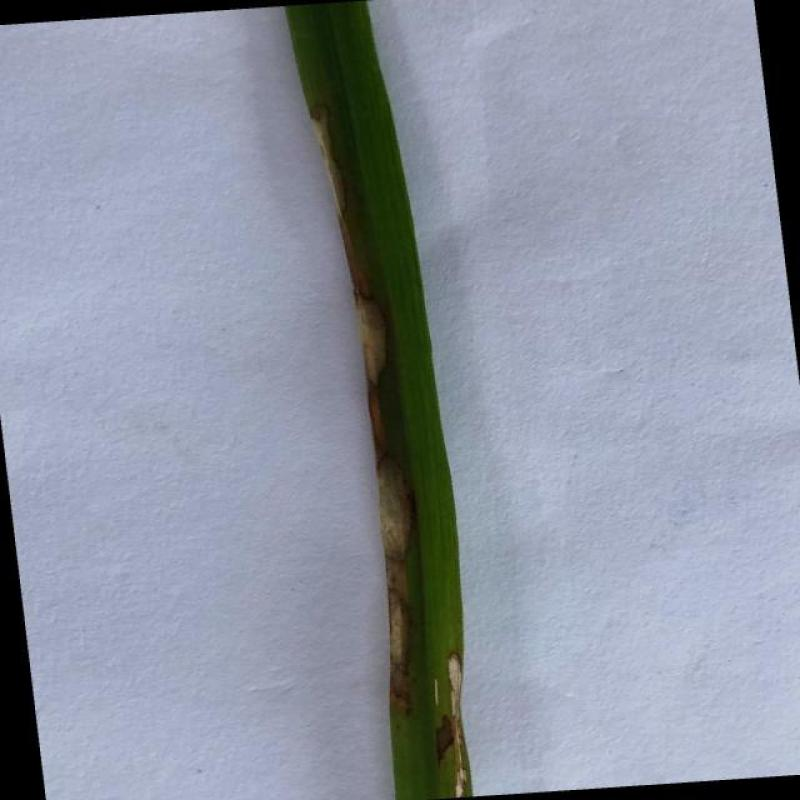Bacterial_Leaf_Blight: (434, 650, 473, 795), (308, 112, 354, 222), (349, 285, 396, 385), (374, 472, 422, 557), (382, 584, 412, 668)
